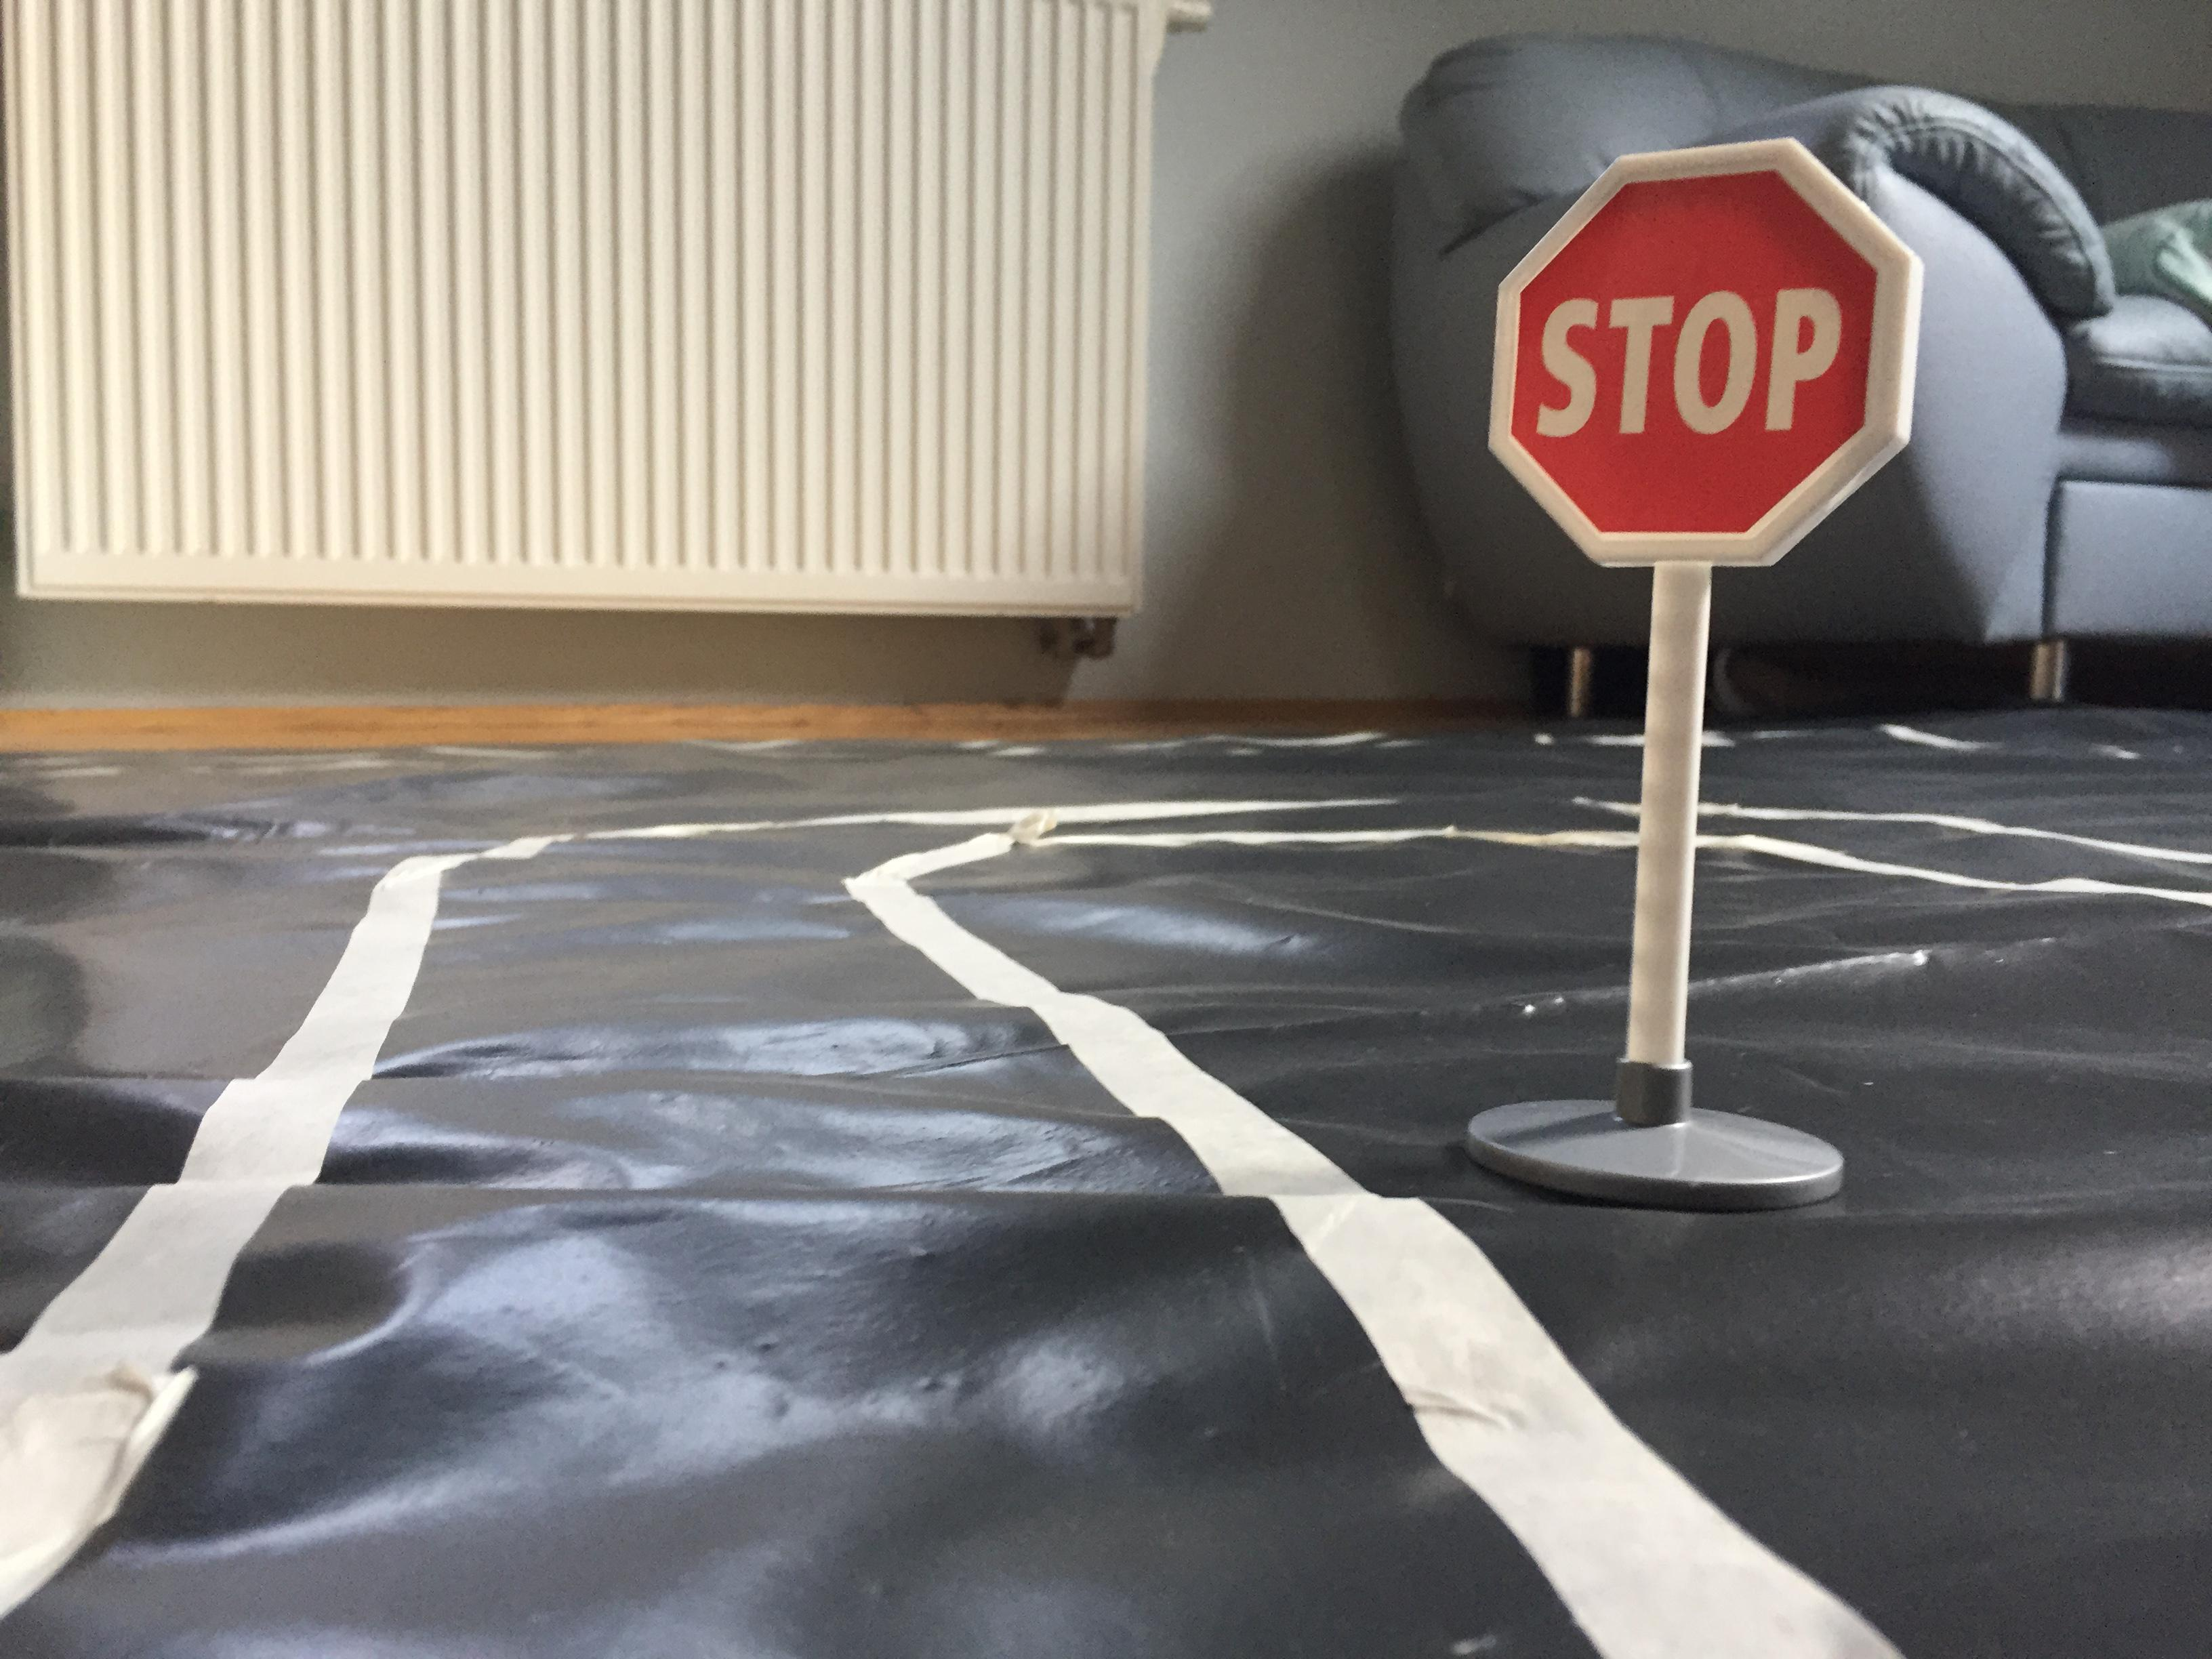stop: (1475, 127, 1932, 579)
